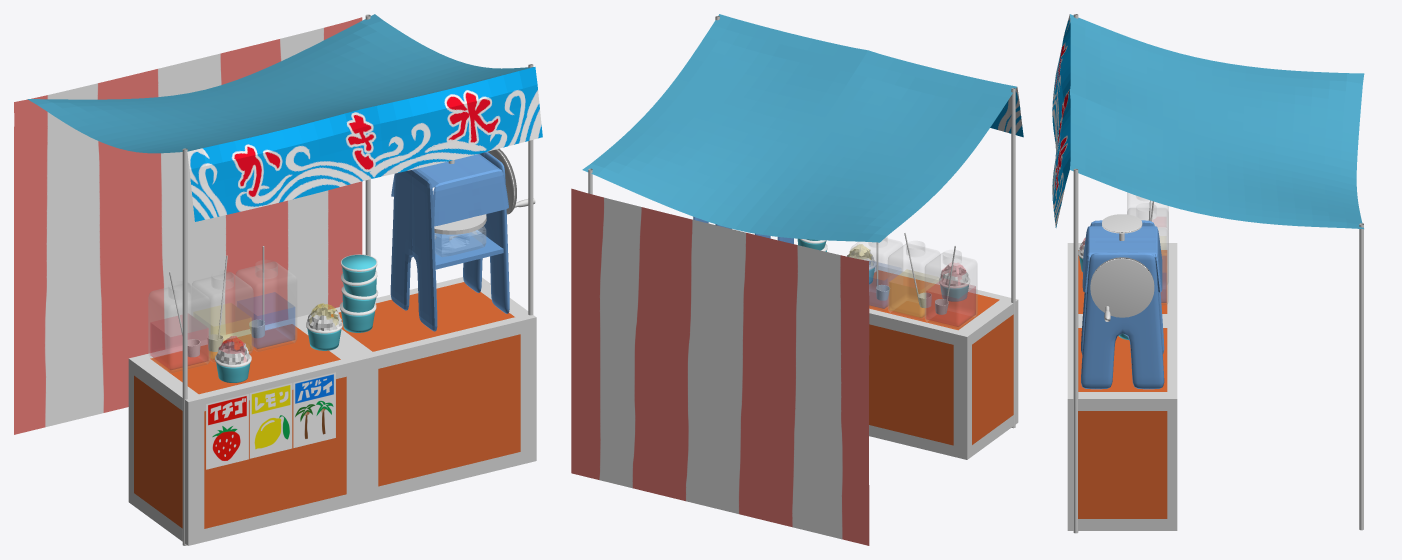
Rendered from kkgr1.glb.
The picture shows the model from 3 angles, left to right: view 1: azimuth 30°, elevation 25°; view 2: azimuth 150°, elevation 25°; view 3: azimuth 270°, elevation 25°; orthographic projection. The views are drawn at different scales.
Parts seen in each view (by area): view 1: 平面.001, 立方体.001, 平面, 平面.003, 立方体.002, 平面.005, 立方体.006, 立方体.004, 円柱.001, kkgrplmn, kkgrpicg, kkgrpblhwi (+14 smaller); view 2: 平面.001, 平面, 立方体.001, 立方体.002, 立方体.004, 立方体.006, 立方体.003, 円柱.001, 立方体.005, 立方体.007; view 3: 平面, 立方体.001, 平面.002, 円柱.010, 平面.005, 円柱.001, 円柱.006, 立方体.004, 円柱.009, 立方体.006, 立方体.002, 平面.003.
Part boxes in pixels (bbox=[...]): 平面.001: bbox=[14, 17, 362, 434]; 立方体.001: bbox=[128, 277, 536, 545]; 平面: bbox=[27, 14, 542, 221]; 平面.003: bbox=[390, 169, 437, 331]; 立方体.002: bbox=[148, 281, 210, 372]; 平面.005: bbox=[391, 154, 508, 226]; 立方体.006: bbox=[235, 260, 296, 351]; 立方体.004: bbox=[192, 271, 253, 361]; 円柱.001: bbox=[182, 64, 533, 545]; kkgrplmn: bbox=[249, 383, 292, 458]; kkgrpicg: bbox=[206, 394, 248, 469]; kkgrpblhwi: bbox=[293, 372, 335, 447]; 平面.001: bbox=[571, 188, 869, 545]; 平面: bbox=[582, 14, 1023, 242]; 立方体.001: bbox=[869, 265, 1018, 459]; 立方体.002: bbox=[925, 250, 977, 328]; 立方体.004: bbox=[888, 241, 940, 319]; 立方体.006: bbox=[850, 237, 902, 310]; 立方体.003: bbox=[926, 279, 975, 326]; 円柱.001: bbox=[715, 16, 1015, 428]; 立方体.005: bbox=[889, 270, 924, 317]; 立方体.007: bbox=[869, 260, 887, 308]; 平面: bbox=[1052, 14, 1364, 229]; 立方体.001: bbox=[1067, 243, 1177, 530]; 平面.002: bbox=[1081, 252, 1164, 389]; 円柱.010: bbox=[1090, 257, 1154, 317]; 平面.005: bbox=[1082, 226, 1162, 292]; 円柱.001: bbox=[1073, 14, 1078, 533]; 円柱.006: bbox=[1359, 223, 1363, 530]; 立方体.004: bbox=[1127, 203, 1168, 283]; 円柱.009: bbox=[1102, 214, 1142, 233]; 立方体.006: bbox=[1155, 225, 1168, 304]; 立方体.002: bbox=[1127, 193, 1168, 229]; 平面.003: bbox=[1081, 220, 1164, 354].
Bounding box in the file's own units: 2.11 × 2.25 × 1.82.
Materials: 19 (5 with a texture image).
